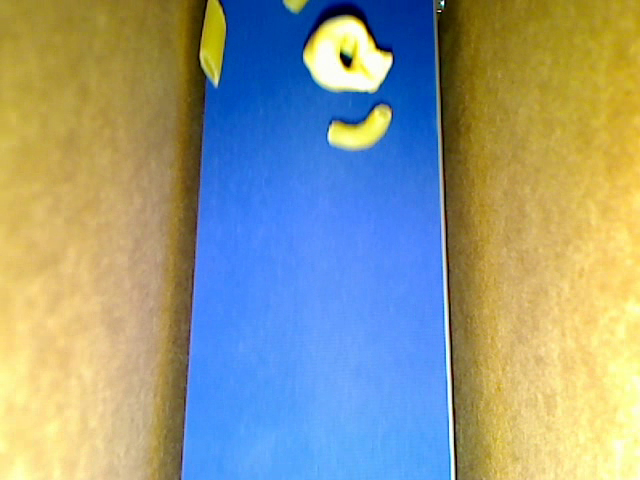elbow: (327, 103, 391, 151)
penne: (200, 1, 227, 89)
tortellini: (302, 15, 393, 92)
